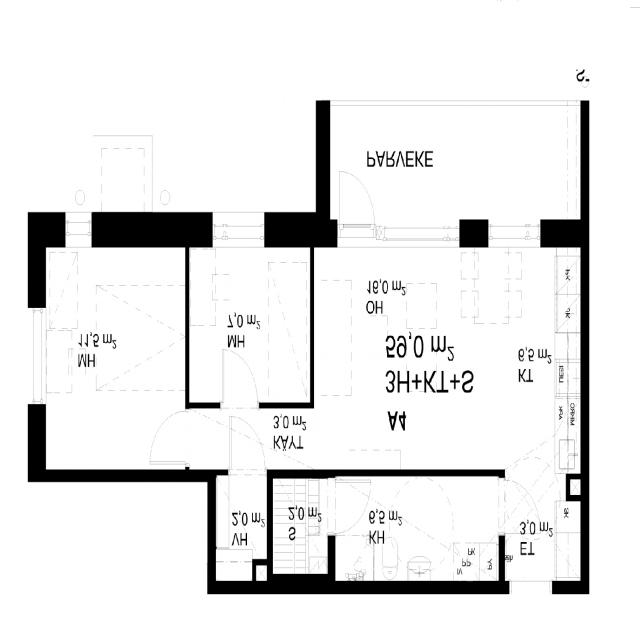door: (339, 172, 374, 238), (328, 480, 371, 532), (499, 480, 541, 533), (222, 349, 258, 408), (230, 416, 265, 474), (151, 412, 190, 464)
